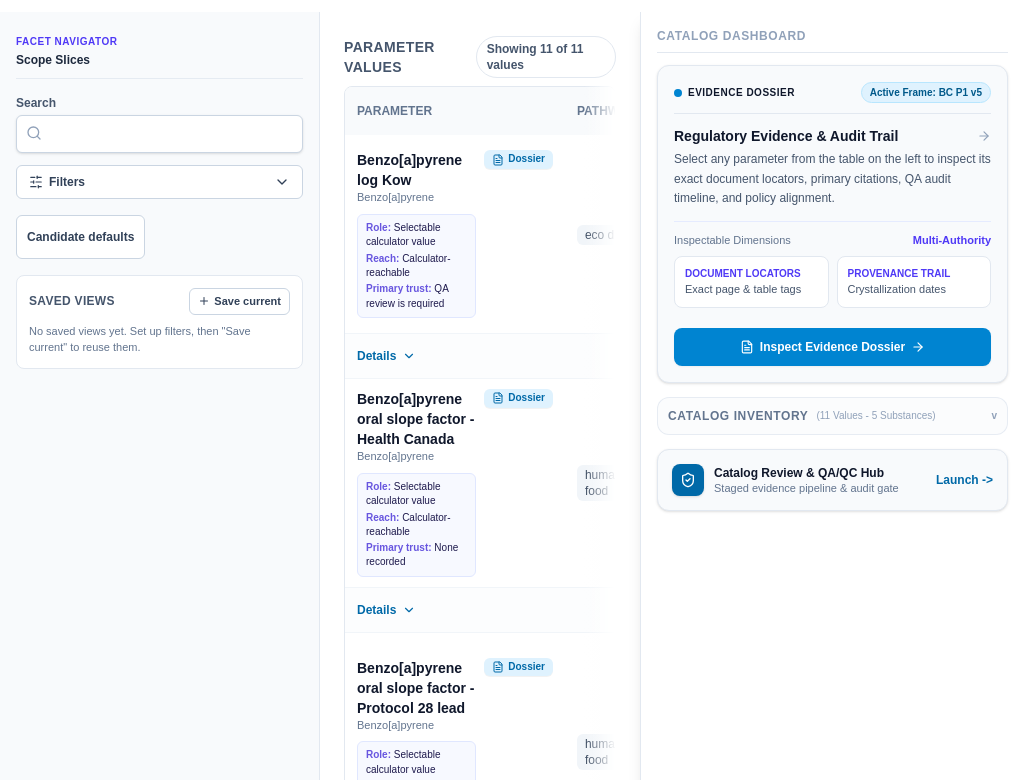
EvidenceLibrary saved views (Supabase) › keeps an optimistic save after the server reconciles its id
Click the button with test id "evidence-library-save-view-button". click: coordinates (240, 301)
box: [189,288,290,314]
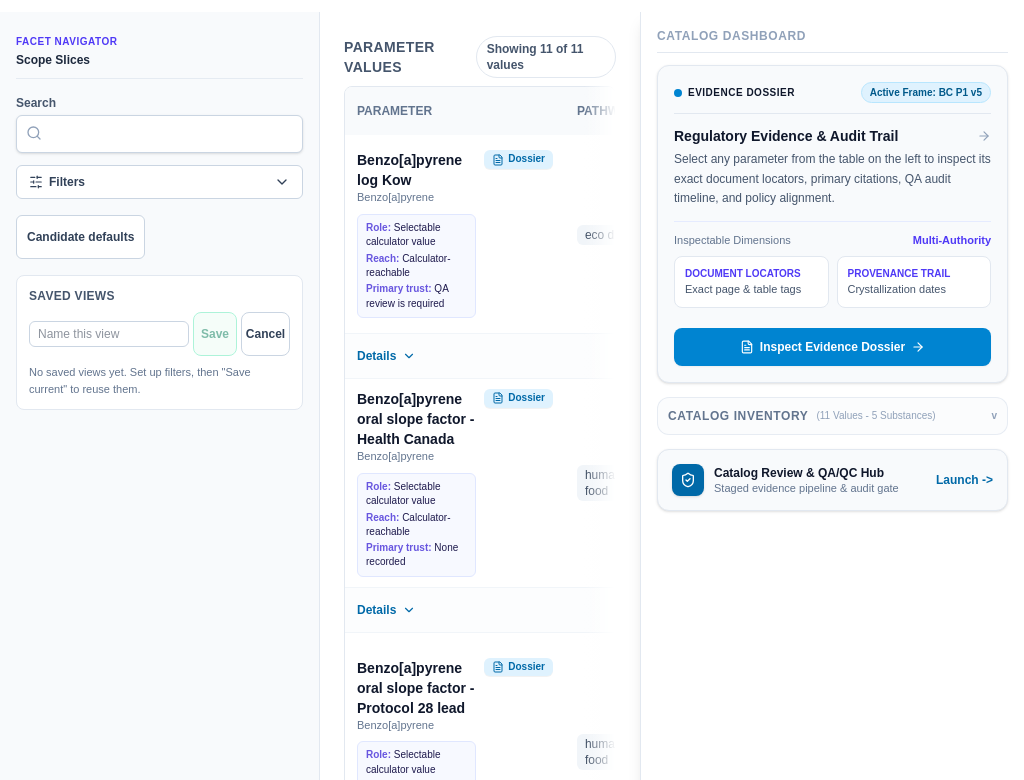
Type "Persisted view" into the field with test id "evidence-library-save-view-input". click: coordinates (109, 334)
box: [29,321,189,347]
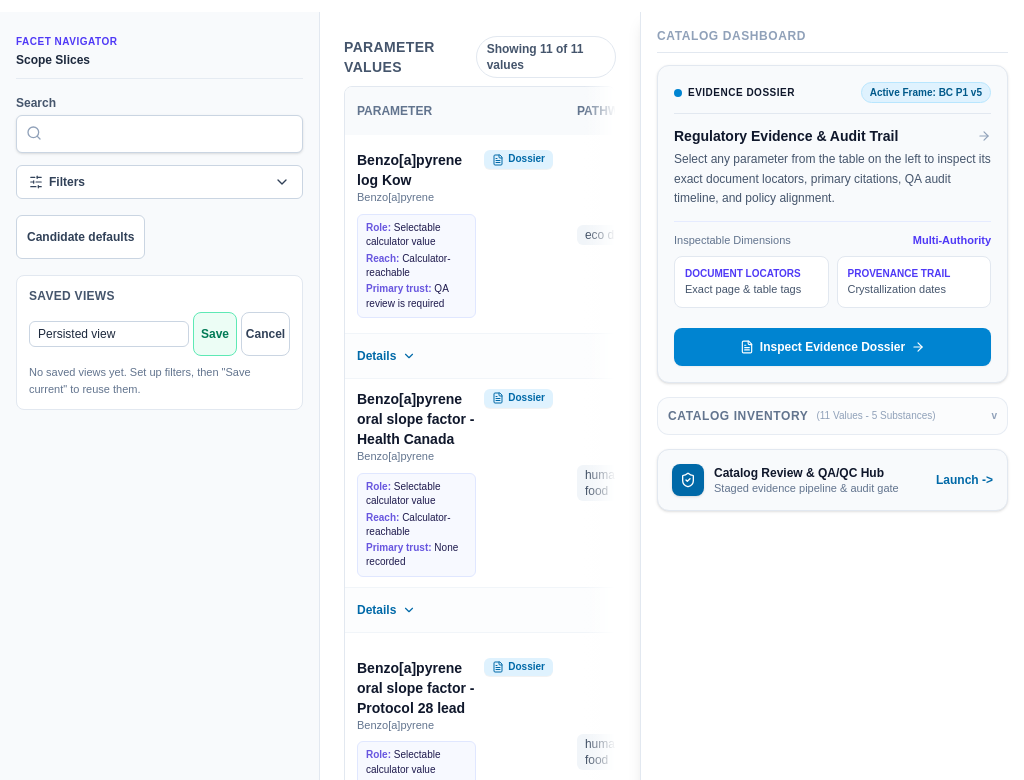
Click the button with test id "evidence-library-save-view-confirm". click: coordinates (215, 334)
box: [193,312,237,356]
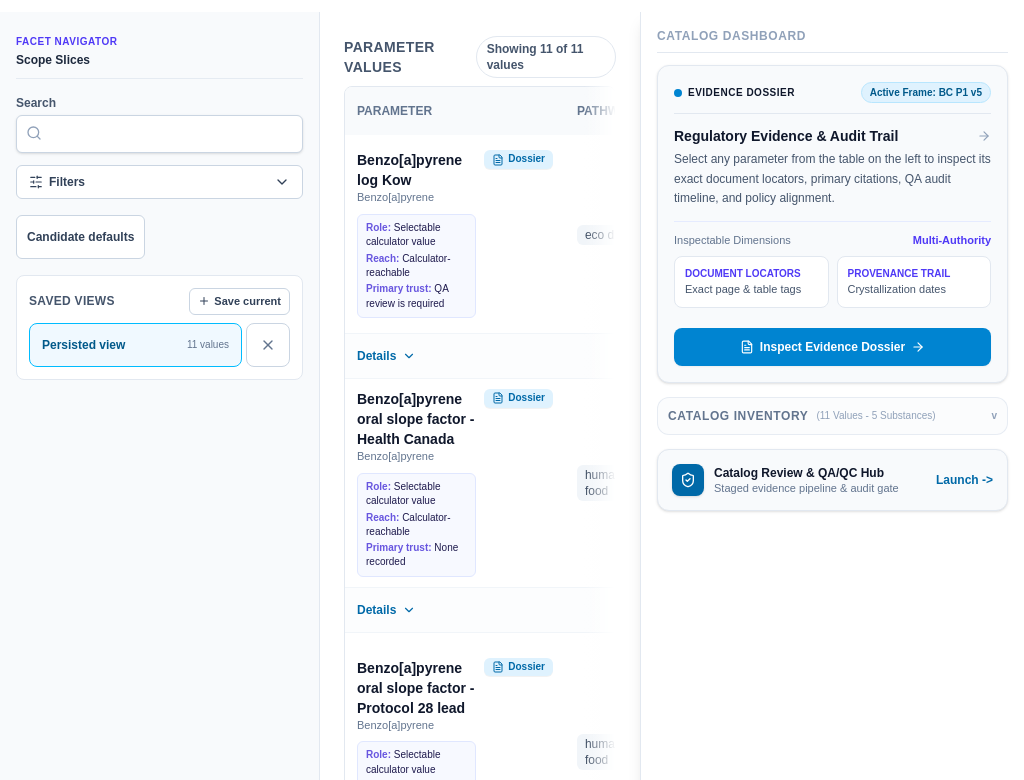
expect the element with test id "evidence-library-saved-views" shows "Persisted view": met, box [29,322,242,366]
